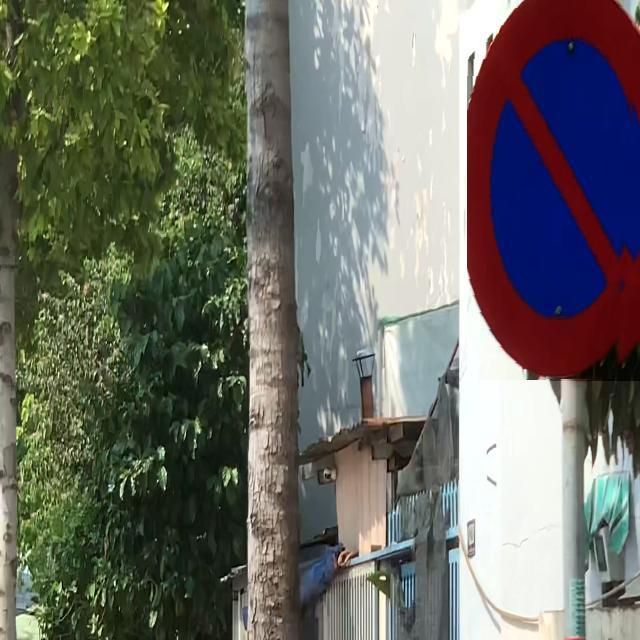P-131a: (467, 0, 640, 381)
